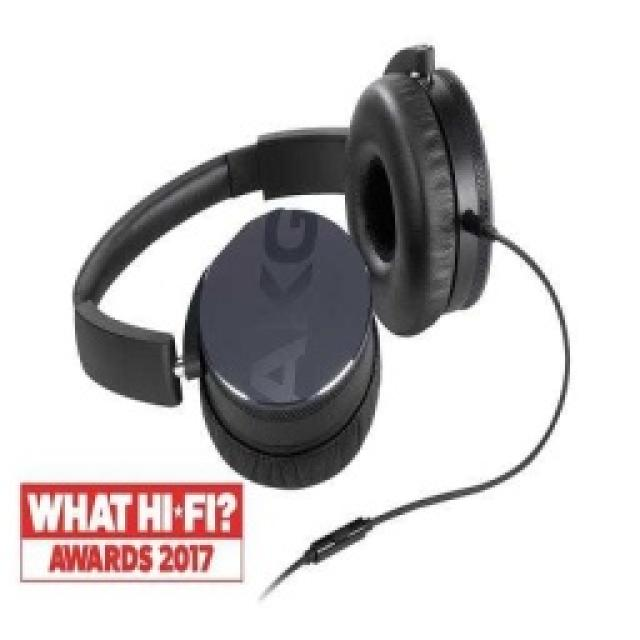headphones: (70, 40, 495, 490)
